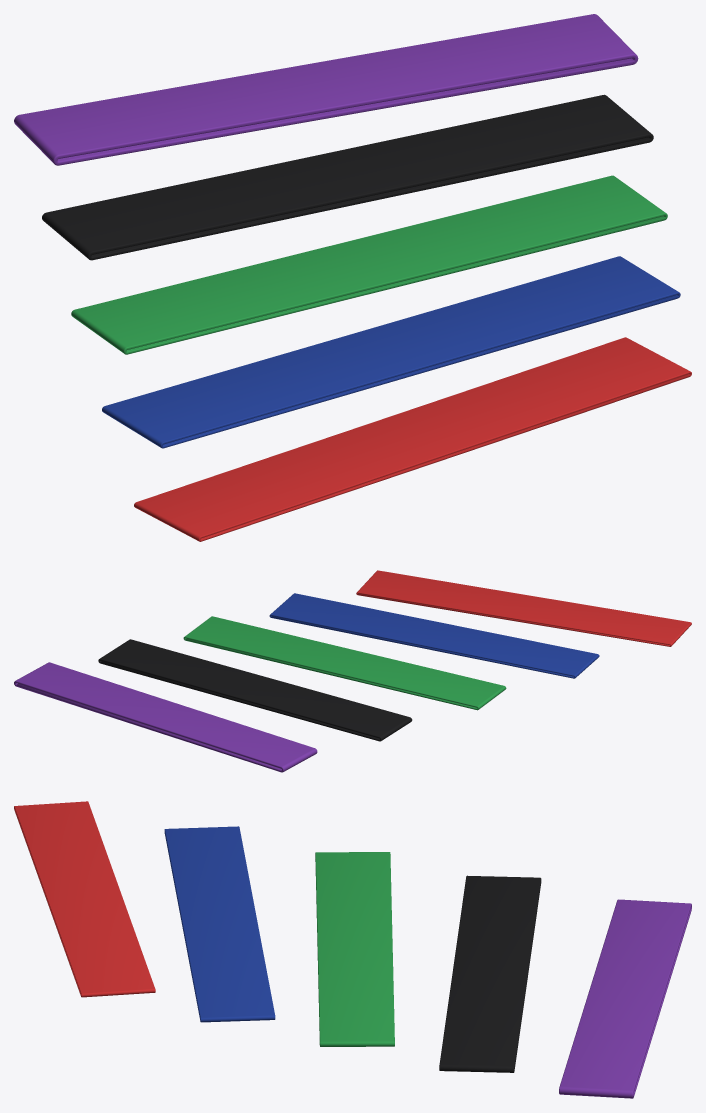
Rendered from life-fitness-mini-power-bands_v001.glb.
3 renders of one model, top to bottom at view 1: azimuth 30°, elevation 25°; view 2: azimuth 150°, elevation 25°; view 3: azimuth 270°, elevation 25°, orthographic. The views are drawn at different scales.
Parts seen in each view (by area): view 1: life-fitness-mini-power-bands_purple, life-fitness-mini-power-bands_black, life-fitness-mini-power-bands_green, life-fitness-mini-power-bands_blue, life-fitness-mini-power-bands_red; view 2: life-fitness-mini-power-bands_purple, life-fitness-mini-power-bands_black, life-fitness-mini-power-bands_green, life-fitness-mini-power-bands_blue, life-fitness-mini-power-bands_red; view 3: life-fitness-mini-power-bands_purple, life-fitness-mini-power-bands_black, life-fitness-mini-power-bands_red, life-fitness-mini-power-bands_blue, life-fitness-mini-power-bands_green.
Part boxes in pixels (box(x1,y1,x2,y2)): life-fitness-mini-power-bands_purple: box(14, 14, 638, 165); life-fitness-mini-power-bands_black: box(42, 94, 653, 260); life-fitness-mini-power-bands_green: box(71, 175, 667, 354); life-fitness-mini-power-bands_blue: box(102, 256, 680, 448); life-fitness-mini-power-bands_red: box(134, 337, 691, 541); life-fitness-mini-power-bands_purple: box(14, 662, 317, 772); life-fitness-mini-power-bands_black: box(98, 639, 412, 741); life-fitness-mini-power-bands_green: box(183, 616, 506, 710); life-fitness-mini-power-bands_blue: box(269, 593, 599, 678); life-fitness-mini-power-bands_red: box(356, 570, 691, 646); life-fitness-mini-power-bands_purple: box(559, 899, 691, 1098); life-fitness-mini-power-bands_black: box(439, 875, 541, 1072); life-fitness-mini-power-bands_red: box(14, 801, 155, 997); life-fitness-mini-power-bands_blue: box(164, 826, 275, 1022); life-fitness-mini-power-bands_green: box(315, 852, 394, 1046).
Size of the model in its own units: 0.4655 by 0.00572 by 0.4514.
